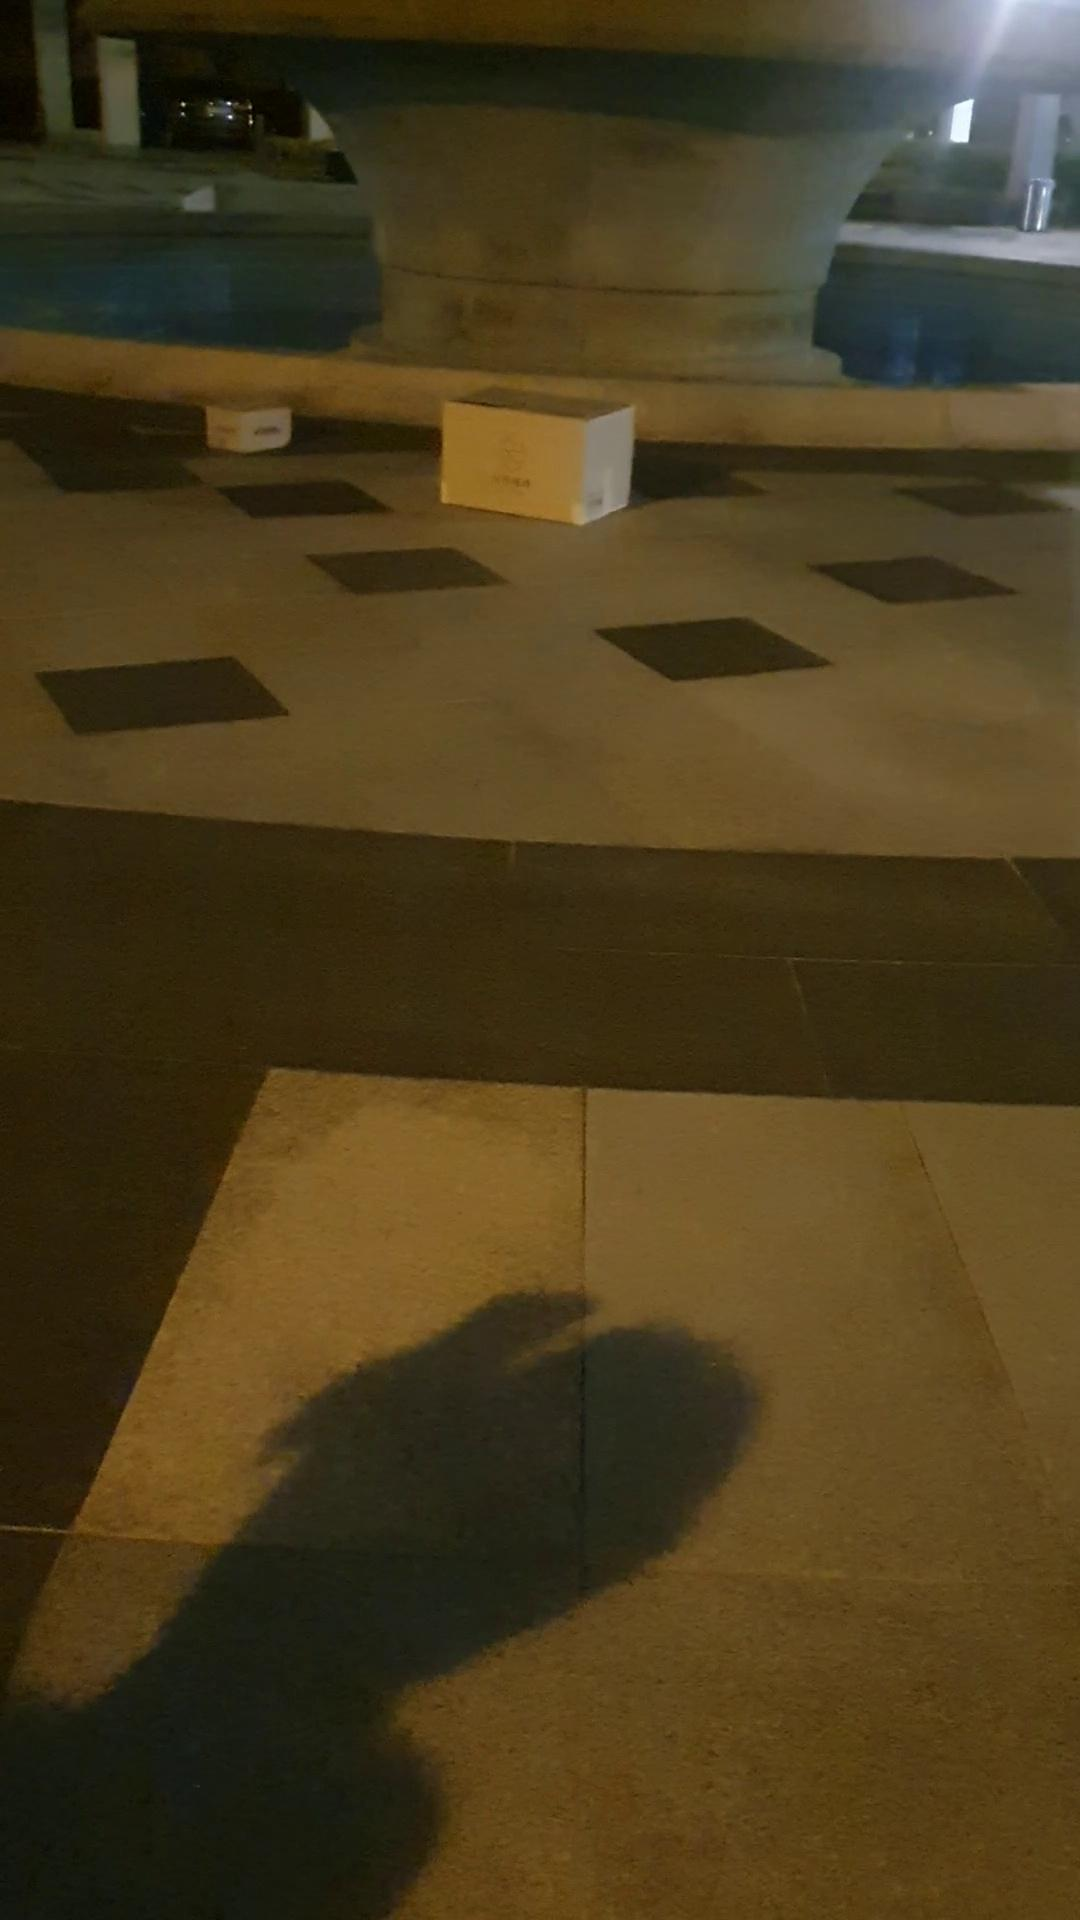Box: (433, 378, 650, 530), (191, 388, 295, 455)
